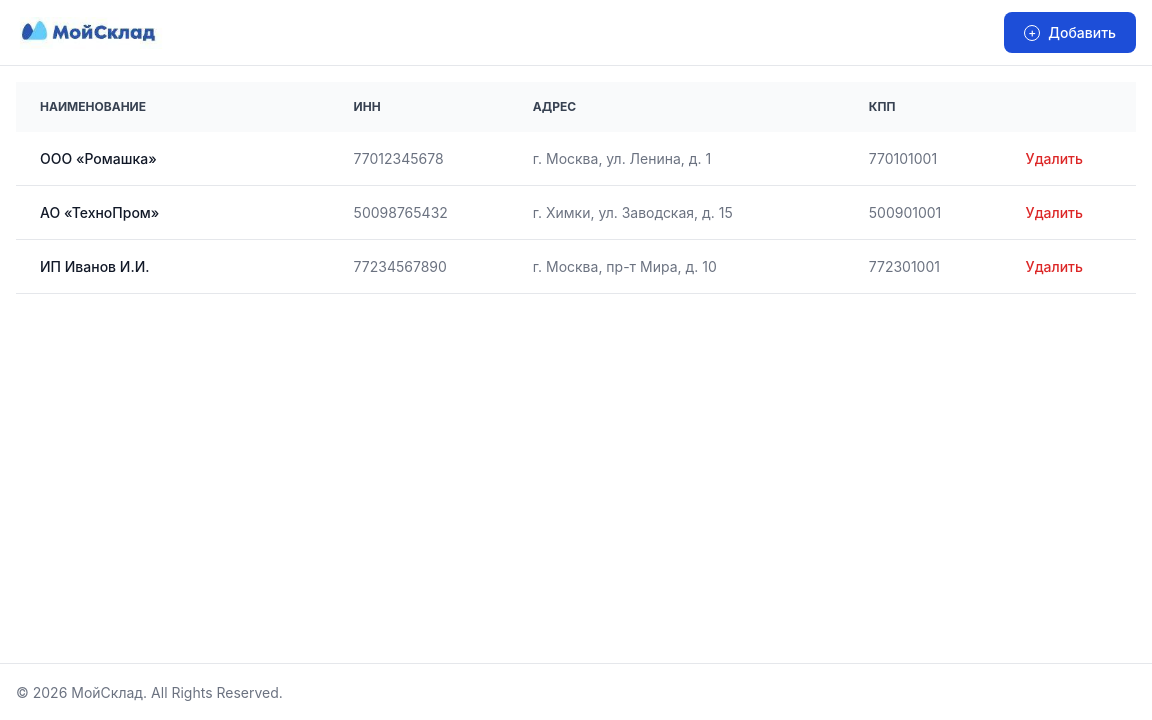
it: App › edits a contragent on row double click
Expected: the column heading "ООО «Ромашка»" is shown, [16, 132, 330, 186]
Step 1. Double-click the text "ООО «Ромашка»" → (576, 159), box [16, 132, 1136, 186]
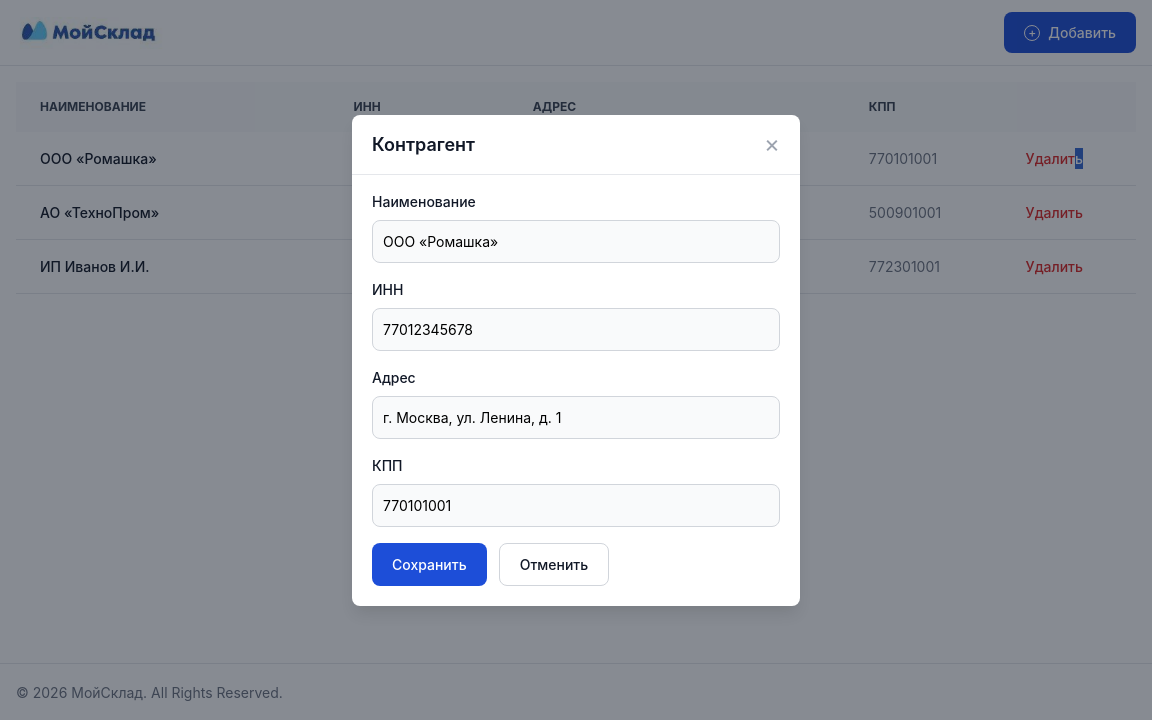
Step 2. Replace the text in the field labelled "Наименование" with "ООО Ромашка Обновлённая" → (576, 241), box [372, 220, 780, 262]
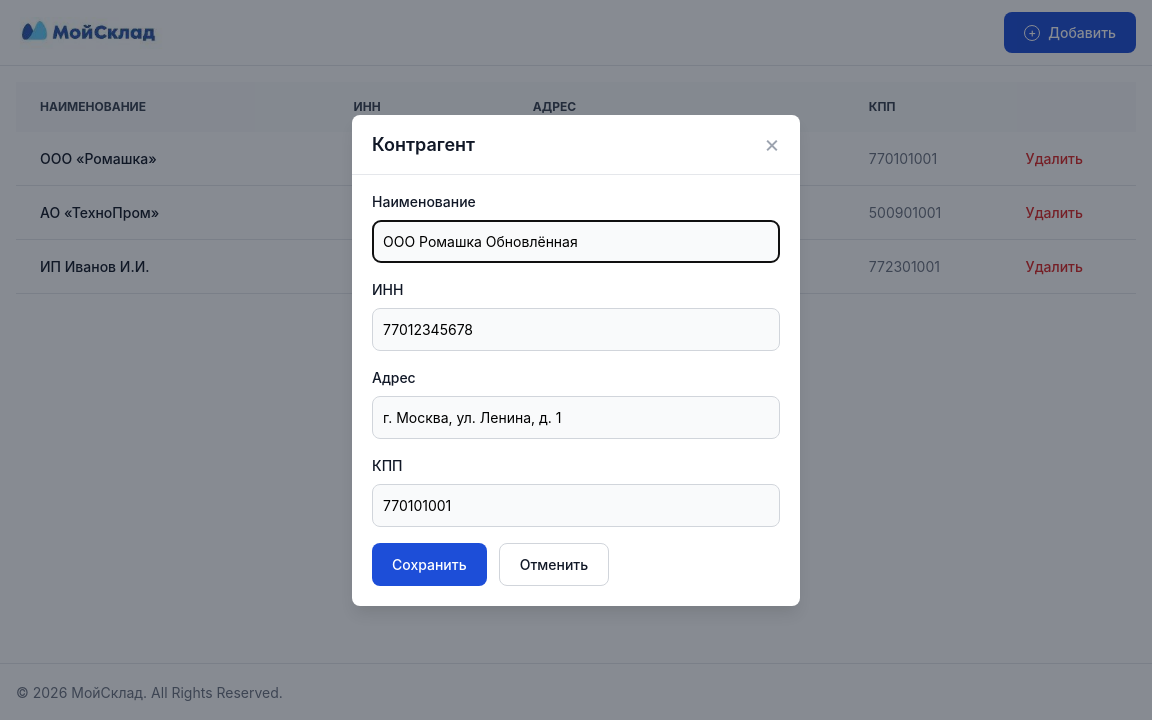
Step 3. Click the button "Сохранить" → (429, 564), box [372, 542, 487, 586]
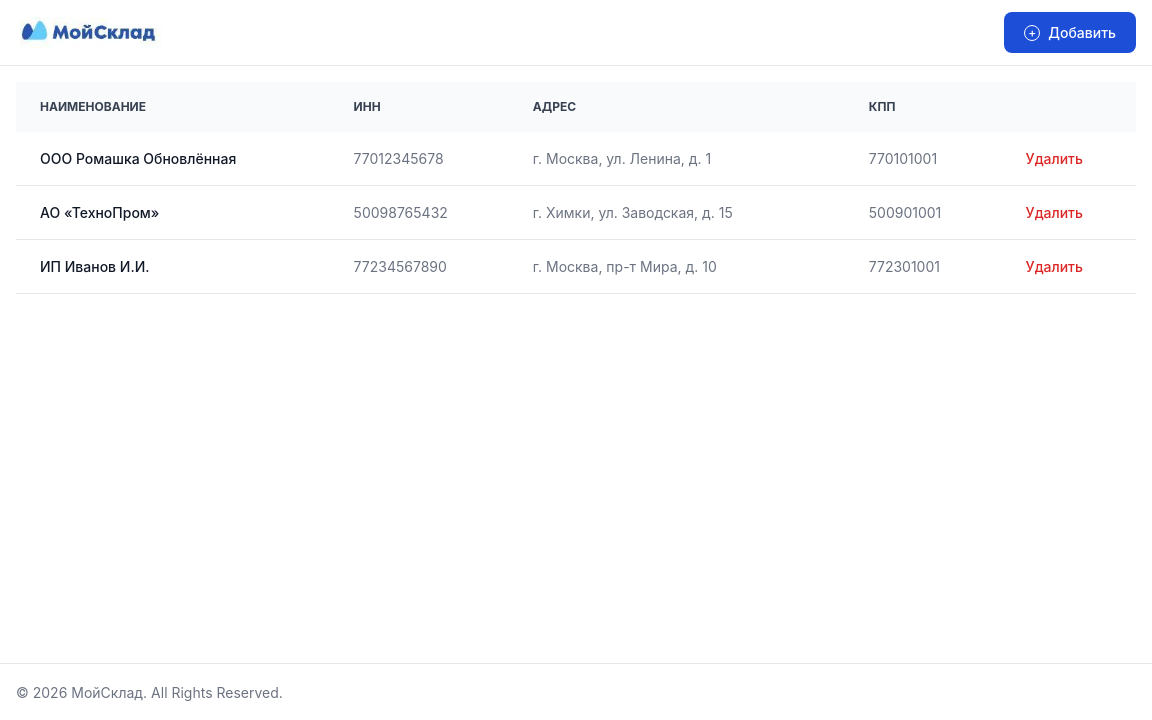
Now the column heading "ООО Ромашка Обновлённая" is shown, box [16, 132, 330, 186]
Now the column heading "ООО «Ромашка»" is gone
